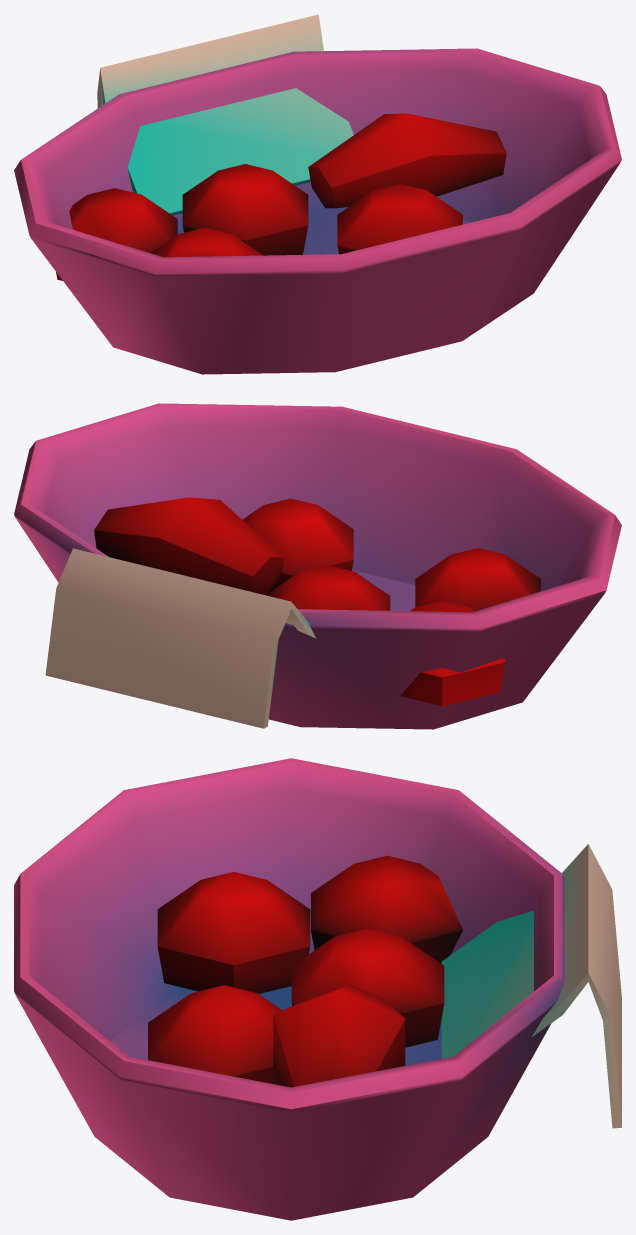
The model's file is CI_Bakery_BreadBasket_Wicker.glb.
3 views of the same model, one above another, from view 1: azimuth 30°, elevation 25°; view 2: azimuth 150°, elevation 25°; view 3: azimuth 270°, elevation 25° (orthographic). The views are drawn at different scales.
Visible parts, largest first — view 1: CI_Bakery_BreadBasket_Wicker; view 2: CI_Bakery_BreadBasket_Wicker; view 3: CI_Bakery_BreadBasket_Wicker.
Boxes of the visible parts, <box> form: CI_Bakery_BreadBasket_Wicker: <box>14,14,621,374</box>; CI_Bakery_BreadBasket_Wicker: <box>14,403,621,729</box>; CI_Bakery_BreadBasket_Wicker: <box>14,758,621,1220</box>.
Bounding box in the file's own units: 0.4228 × 0.1145 × 0.3172.
